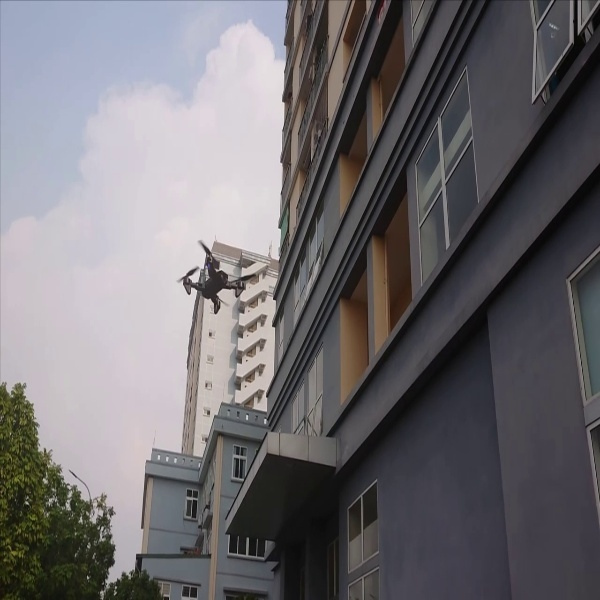drone: (169, 237, 256, 322)
